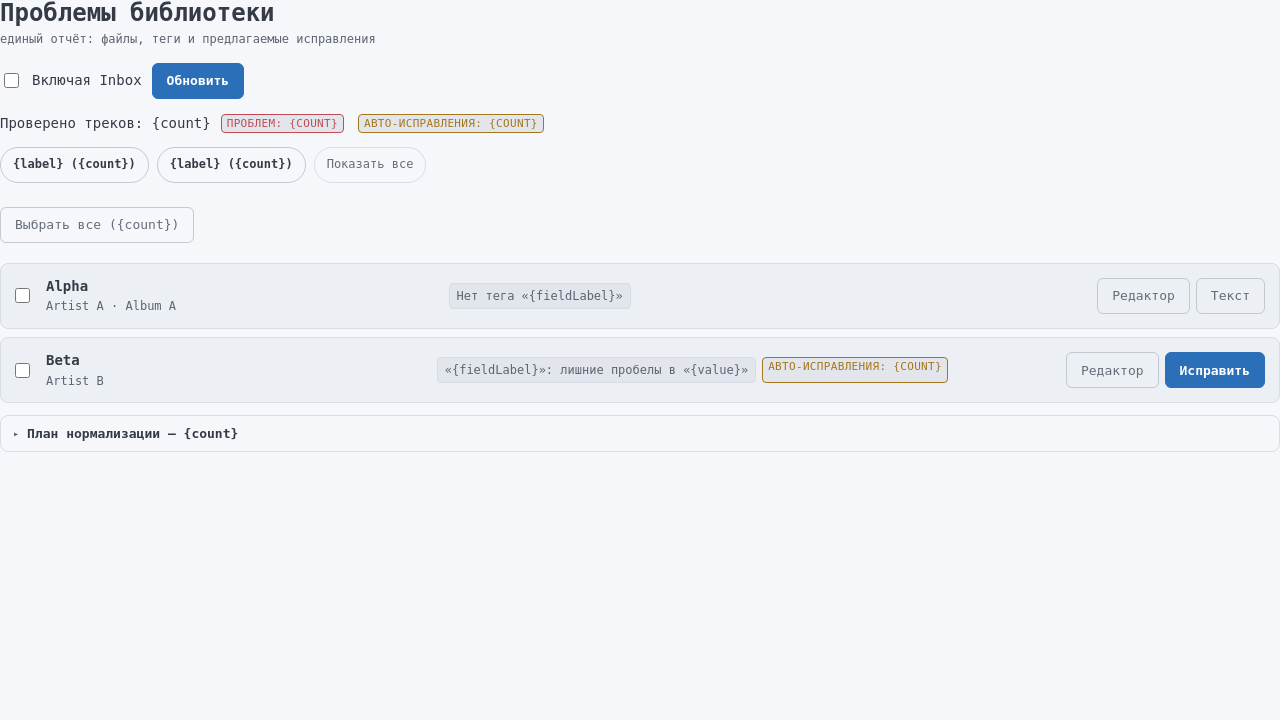
Scenario: QualityScreen › «Исправить» на карточке: план только для этого трека
Expected: the text "Beta" is shown, [46,352,80,368]
What coordinates should you click on to do the following:
click the button "Исправить"
I would click on:
 (1215, 370)
Its box is [1164,352,1265,388].
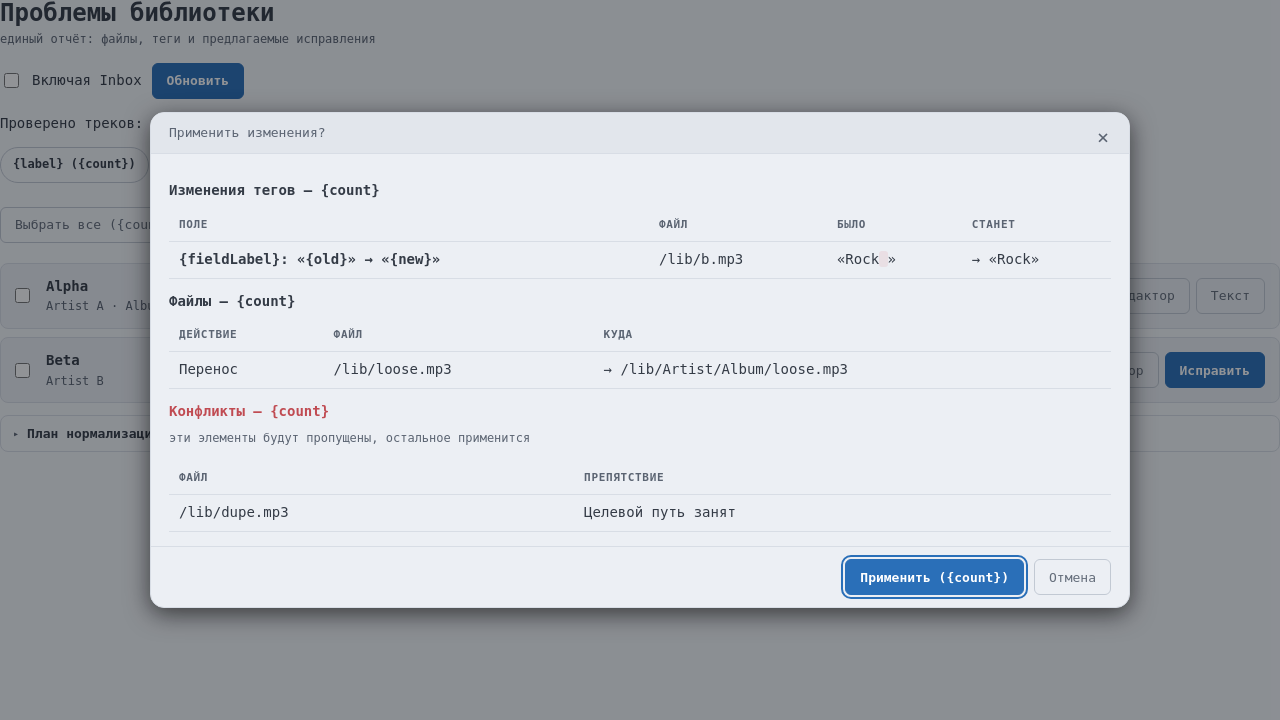
Result: the heading "Применить изменения?" is shown at [151,113,1129,154]
# Отмена — без применения.
What coordinates should you click on to do the following:
click the button "Отмена"
I would click on:
 (1072, 577)
Its box is [1034,559,1111,595].
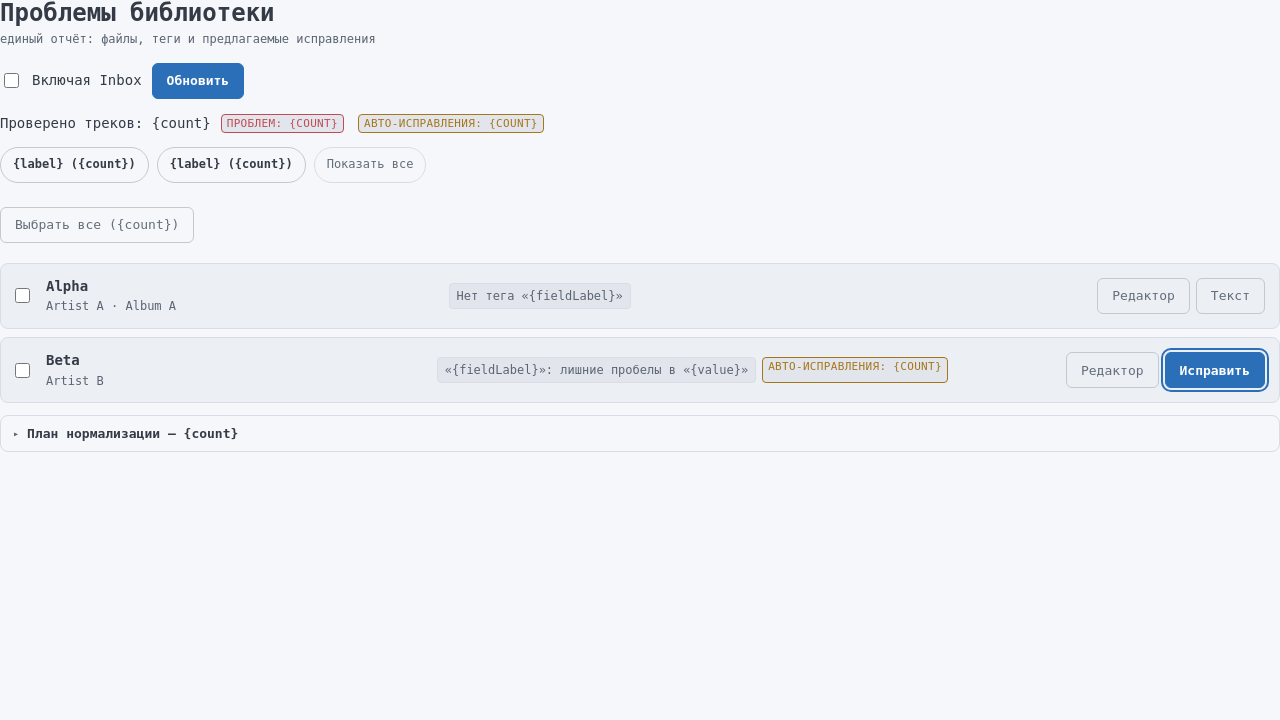
Result: the heading "Применить изменения?" is gone
